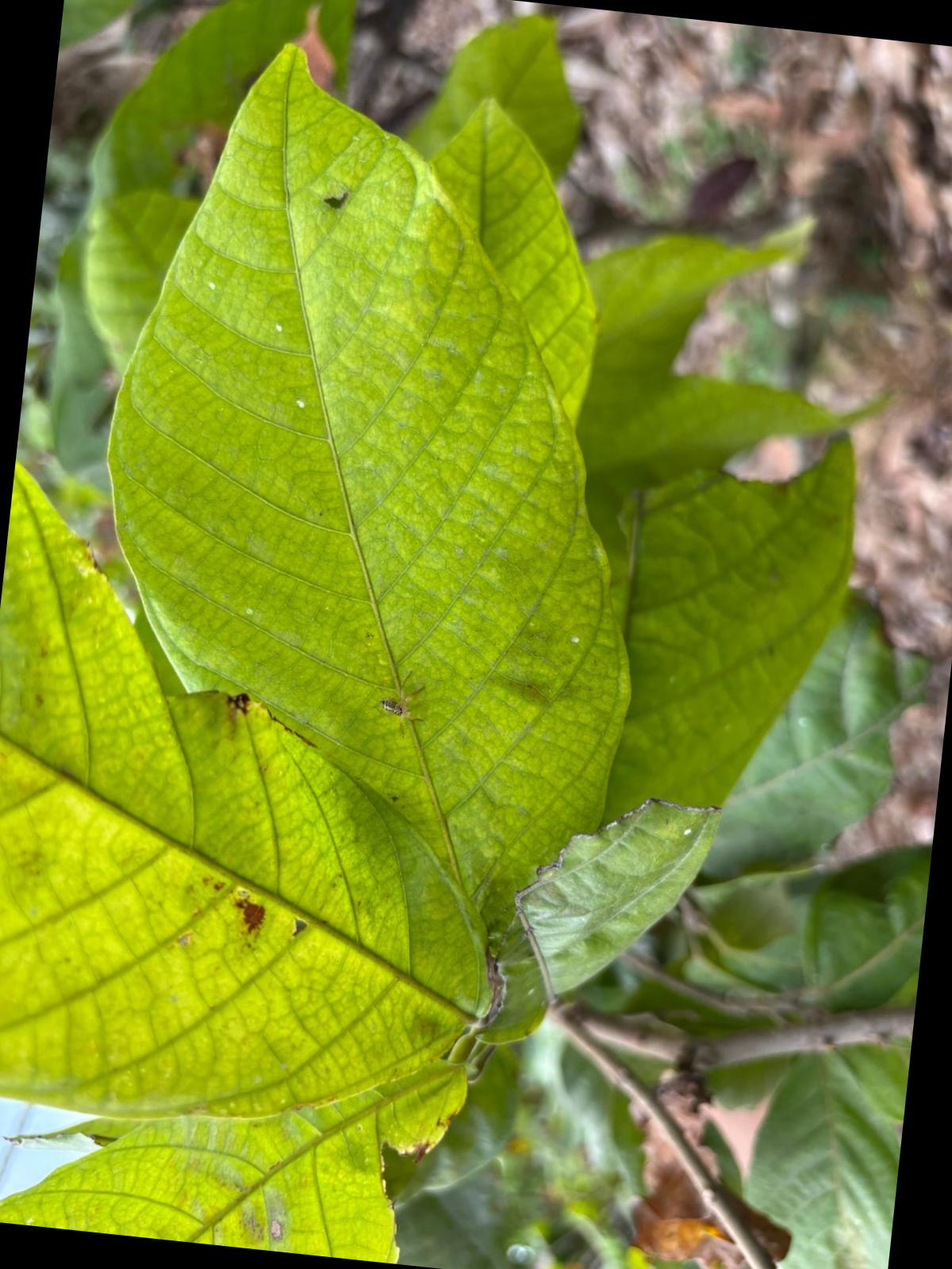Nitrogeno: (109, 47, 628, 947), (0, 468, 490, 1120)
